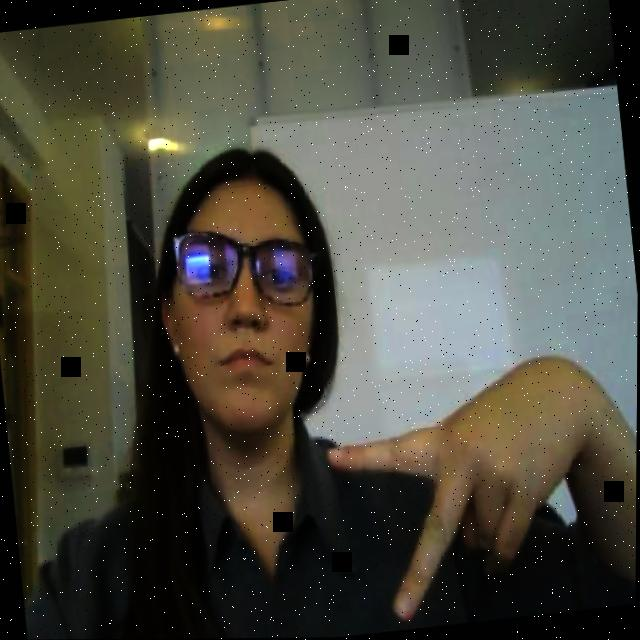Scissors: (313, 344, 604, 628)
